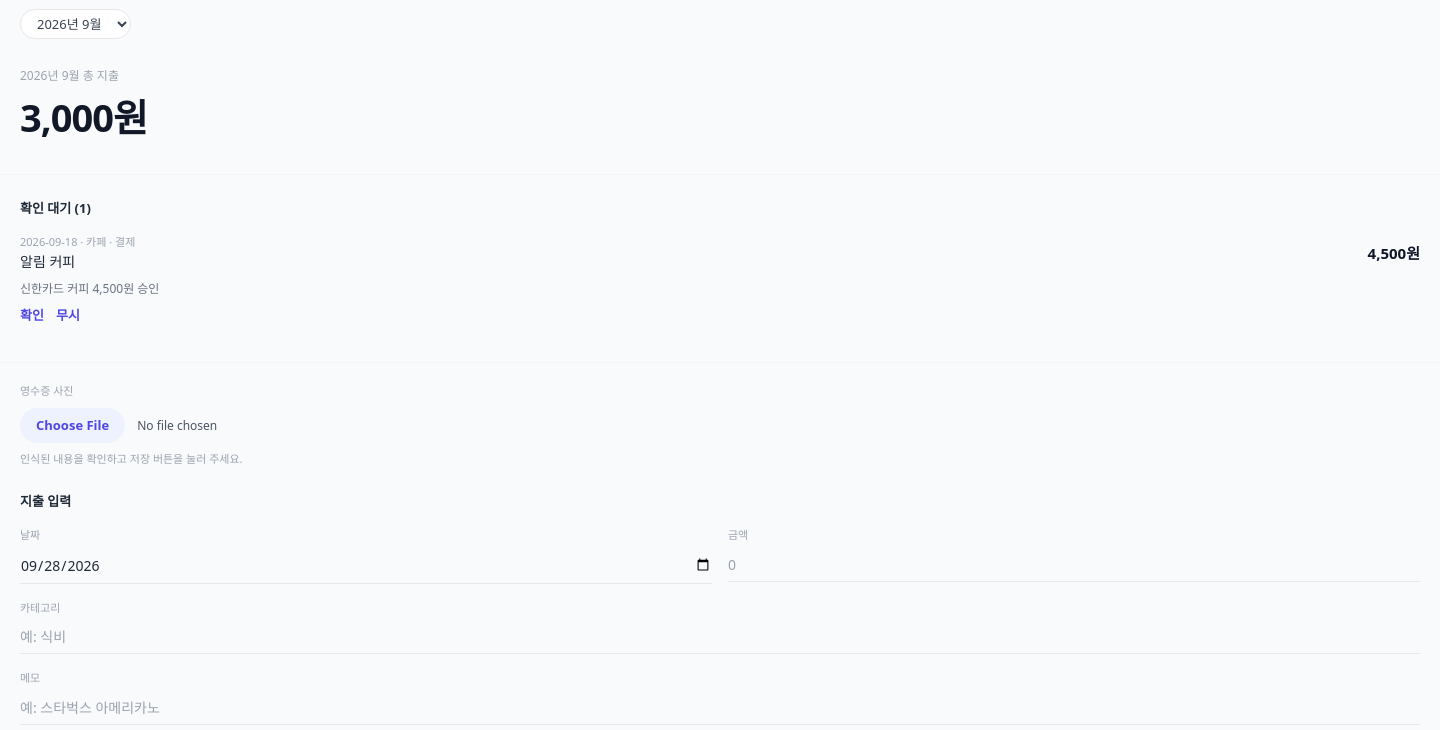
대시보드 확인 대기 › 마운트 시 대기를 조회하고 확인한 값을 채운 뒤 저장 성공 시 다시 조회합니다
Click the button "확인" at point(32, 315), box 20,306 -> 44,325
(page scrolled)
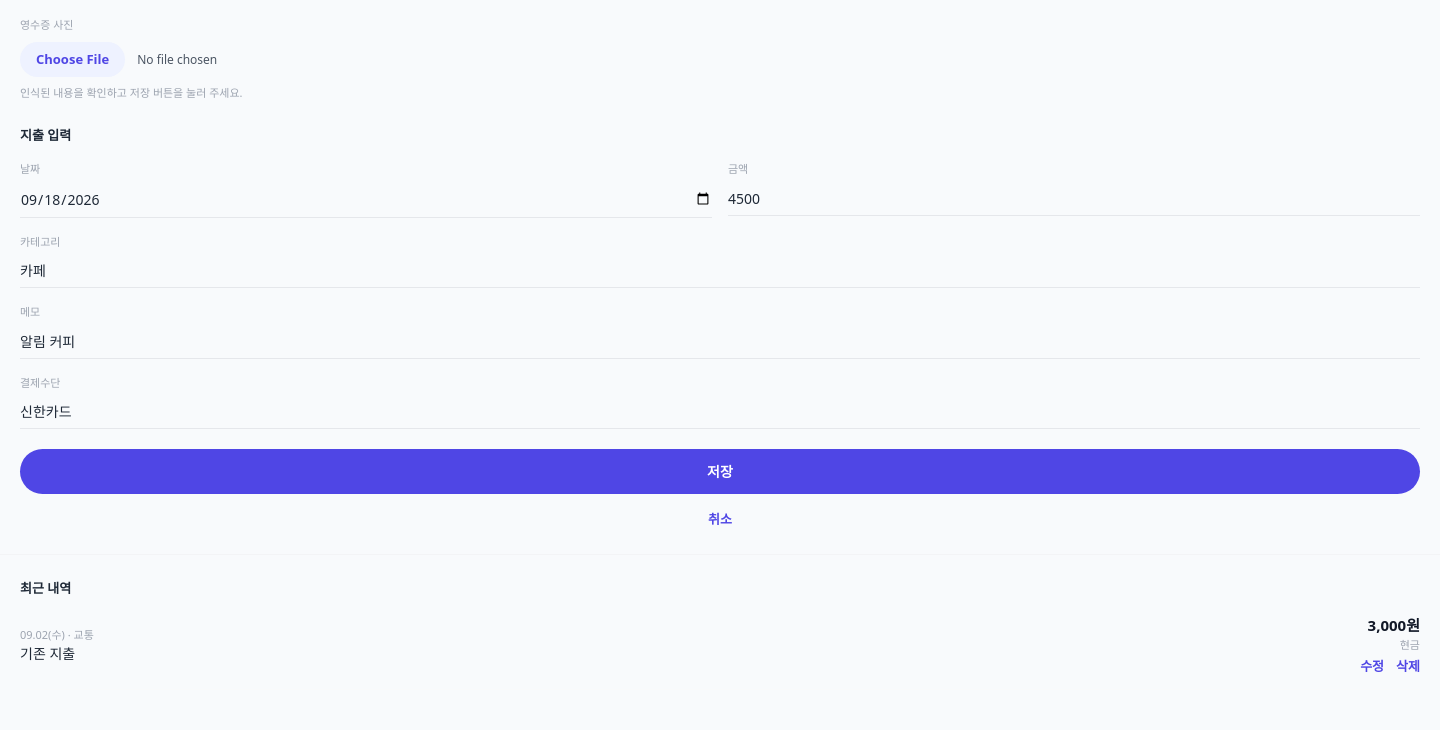
Result: the date field labelled "날짜" holds "2026-09-18" at 20,182 -> 712,218
Result: the number field labelled "금액" holds "4500" at 728,182 -> 1420,216
Result: the field labelled "카테고리" holds "카페" at 20,254 -> 1420,288
Click the button "저장" at point(720, 472), box 20,449 -> 1420,494
(page scrolled)
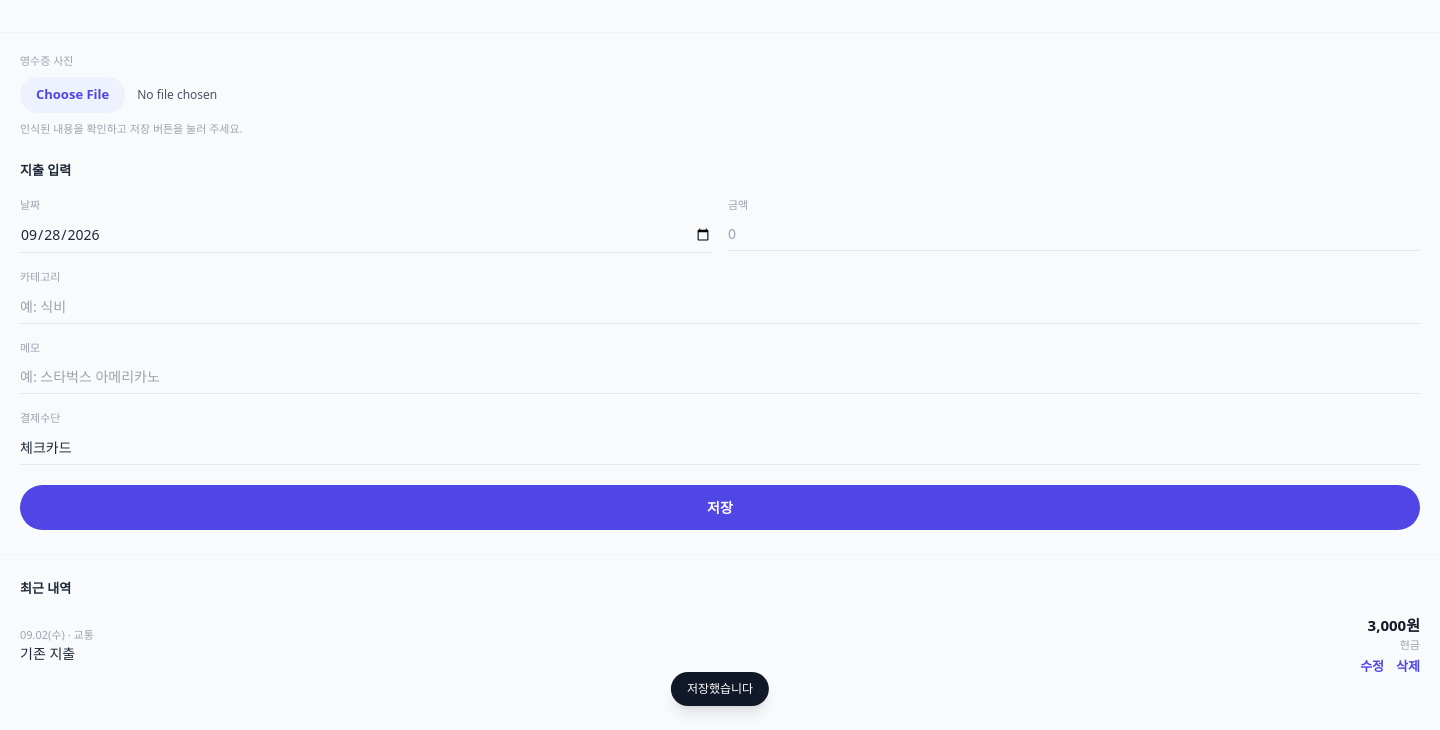
Result: the text "저장했습니다" is shown at 671,672 -> 769,706
Result: the button "취소" is gone
